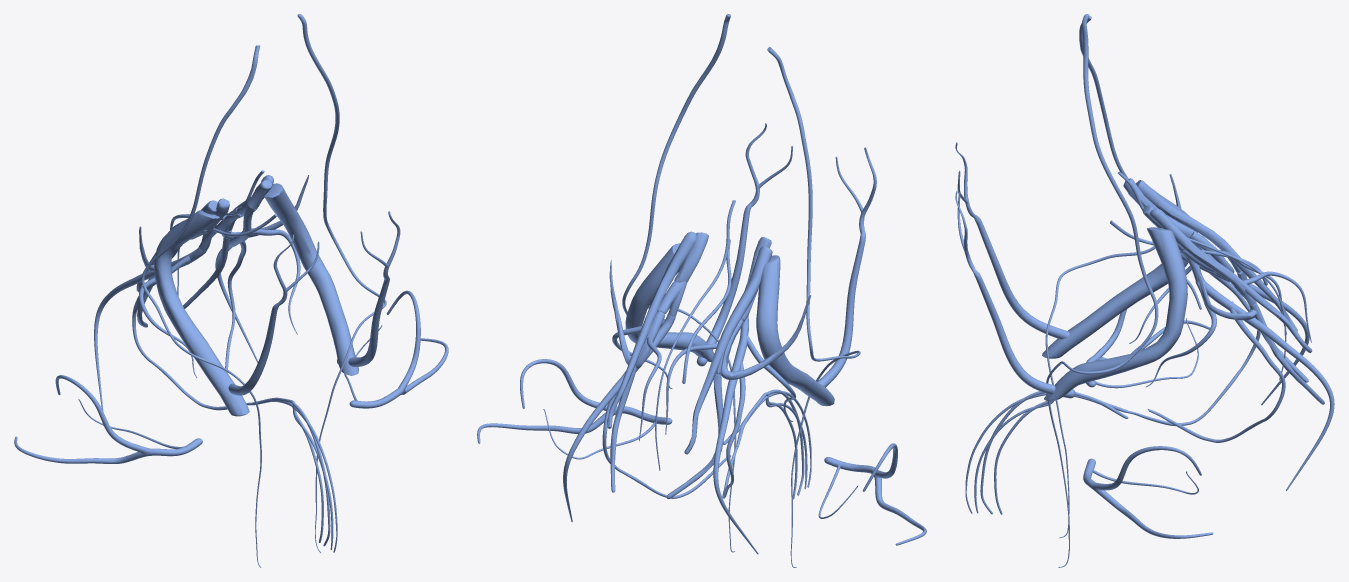
File: veines-bassin.hi.glb
3 renders of one model, left to right at view 1: azimuth 30°, elevation 25°; view 2: azimuth 150°, elevation 25°; view 3: azimuth 270°, elevation 25°, orthographic. The views are drawn at different scales.
Parts seen in each view (by area): view 1: FJ3568, FJ3484, FJ3618, FJ2201, FJ3533, FJ2188, FJ3615, FJ3530, FJ3606, FJ3610, FJ3513, FJ3612 (+4 smaller); view 2: FJ3568, FJ3484, FJ3618, FJ3533, FJ2188, FJ3615, FJ3606, FJ2201, FJ3530, FJ3570, FJ3513, FJ3469 (+14 smaller); view 3: FJ3484, FJ3568, FJ3533, FJ2188, FJ3513, FJ3618, FJ3615, FJ3530, FJ3469, FJ3570, FJ3525, FJ3610 (+13 smaller).
Part boxes in pixels (box(x1,y1,x2,y2)): FJ3568: box(154, 210, 249, 416); FJ3484: box(264, 183, 358, 375); FJ3618: box(141, 45, 261, 567); FJ2201: box(14, 375, 202, 463); FJ3533: box(297, 14, 386, 552); FJ2188: box(349, 290, 448, 408); FJ3615: box(228, 234, 319, 395); FJ3530: box(348, 211, 400, 366); FJ3606: box(94, 247, 205, 410); FJ3610: box(132, 266, 254, 410); FJ3513: box(215, 228, 258, 362); FJ3612: box(139, 256, 197, 377); FJ3568: box(756, 255, 834, 406); FJ3484: box(625, 243, 714, 362); FJ3618: box(767, 47, 860, 567); FJ3533: box(622, 14, 736, 552); FJ2188: box(477, 359, 672, 443); FJ3615: box(817, 147, 876, 387); FJ3606: box(713, 318, 758, 554); FJ2201: box(824, 443, 926, 545); FJ3530: box(706, 123, 792, 350); FJ3570: box(716, 246, 772, 374); FJ3513: box(563, 314, 675, 521); FJ3469: box(638, 231, 696, 357); FJ3484: box(1044, 227, 1187, 400); FJ3568: box(1042, 188, 1197, 358); FJ3533: box(1046, 14, 1158, 567); FJ2188: box(1083, 446, 1213, 538); FJ3513: box(1198, 274, 1334, 490); FJ3618: box(1045, 16, 1155, 538); FJ3615: box(955, 142, 1069, 339); FJ3530: box(955, 191, 1055, 394); FJ3469: box(1150, 208, 1255, 305); FJ3570: box(1136, 180, 1241, 272); FJ3525: box(1148, 301, 1285, 442); FJ3610: box(1124, 273, 1260, 426).
Bounding box in the file's own units: 0.2925 × 0.3467 × 0.2164.
